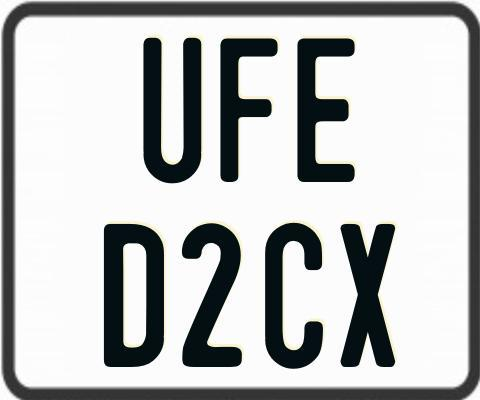2: (182, 223, 243, 372)
C: (263, 222, 326, 371)
D: (102, 221, 163, 369)
E: (296, 37, 358, 187)
F: (217, 37, 276, 185)
U: (141, 35, 205, 184)
X: (341, 223, 396, 367)
